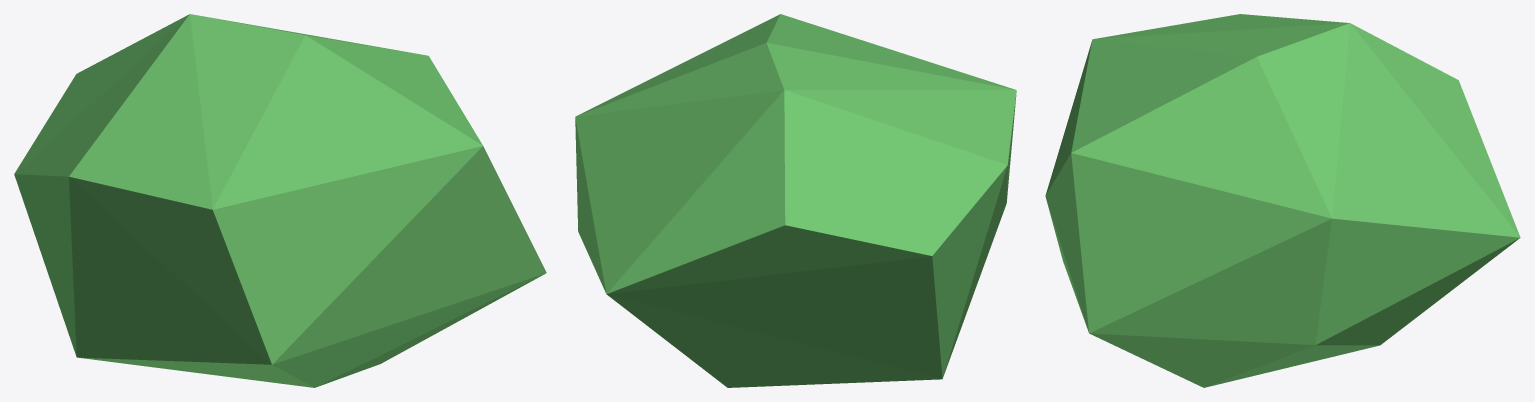
The model's file is bush2.fbx.
The picture shows the model from 3 angles, left to right: view 1: azimuth 30°, elevation 25°; view 2: azimuth 150°, elevation 25°; view 3: azimuth 270°, elevation 25°; orthographic projection. The views are drawn at different scales.
Parts seen in each view (by area): view 1: Icosphere; view 2: Icosphere; view 3: Icosphere.
Boxes of the visible parts, x1,y1,x2,y2 form: Icosphere: (14, 14, 546, 387); Icosphere: (575, 14, 1016, 387); Icosphere: (1045, 14, 1520, 387).
Size of the model in its own units: 478 by 356 by 494.
